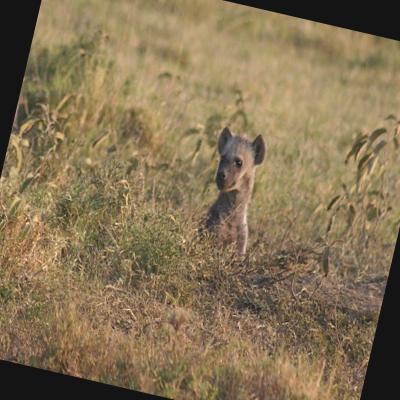hyenas: (178, 102, 294, 290)
